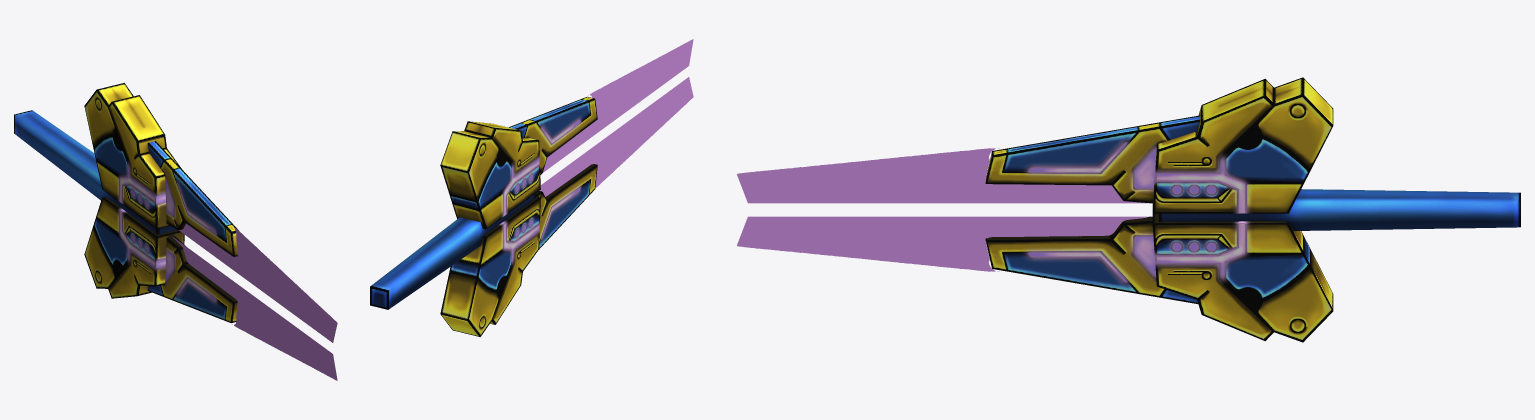
The model's file is weapon_melees_08.FBX.
3 renders of one model, left to right at view 1: azimuth 30°, elevation 25°; view 2: azimuth 150°, elevation 25°; view 3: azimuth 270°, elevation 25°, orthographic. The views are drawn at different scales.
Visible parts, largest first — view 1: weapon_melees_08, weapon_melees_08_b; view 2: weapon_melees_08, weapon_melees_08_b; view 3: weapon_melees_08, weapon_melees_08_b.
Boxes of the visible parts, x1=… form: weapon_melees_08: x1=14, y1=83, x2=238, y2=323; weapon_melees_08_b: x1=173, y1=223, x2=337, y2=380; weapon_melees_08: x1=370, y1=96, x2=597, y2=336; weapon_melees_08_b: x1=539, y1=39, x2=693, y2=196; weapon_melees_08: x1=985, y1=77, x2=1520, y2=342; weapon_melees_08_b: x1=737, y1=148, x2=1147, y2=271.
Size of the model in its own units: 13.88 by 149 by 274.
